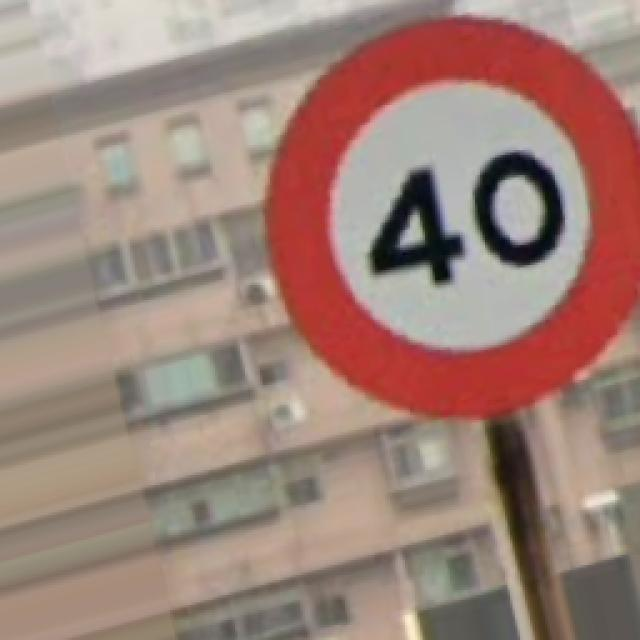Speed Limit -40-: (268, 18, 635, 415)
